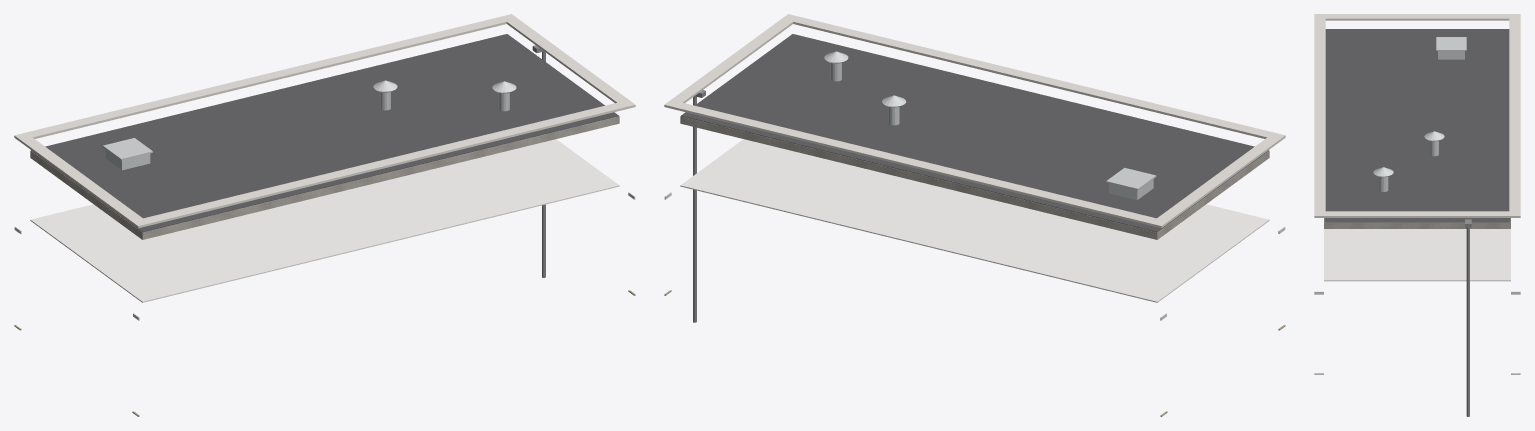
File: bs_roof.glb
3 renders of one model, left to right at view 1: azimuth 30°, elevation 25°; view 2: azimuth 150°, elevation 25°; view 3: azimuth 270°, elevation 25°, orthographic. The views are drawn at different scales.
Parts seen in each view (by area): view 1: bs_roof_dark, bs_roof_ceil, bs_roof_coping, bs_roof_concrete, bs_roof_metal; view 2: bs_roof_dark, bs_roof_ceil, bs_roof_coping, bs_roof_concrete, bs_roof_metal, bs_roof_gutter; view 3: bs_roof_dark, bs_roof_ceil, bs_roof_coping, bs_roof_metal, bs_roof_concrete, bs_roof_gutter.
Part boxes in pixels (x1=…): bs_roof_dark: x1=31, y1=34, x2=618, y2=232; bs_roof_ceil: x1=30, y1=139, x2=619, y2=302; bs_roof_coping: x1=14, y1=14, x2=635, y2=320; bs_roof_concrete: x1=30, y1=116, x2=619, y2=239; bs_roof_metal: x1=103, y1=80, x2=516, y2=170; bs_roof_dark: x1=681, y1=34, x2=1268, y2=232; bs_roof_ceil: x1=680, y1=139, x2=1269, y2=302; bs_roof_coping: x1=664, y1=14, x2=1285, y2=320; bs_roof_concrete: x1=680, y1=116, x2=1269, y2=239; bs_roof_metal: x1=824, y1=51, x2=1156, y2=199; bs_roof_gutter: x1=693, y1=90, x2=705, y2=322; bs_roof_dark: x1=1324, y1=29, x2=1510, y2=222; bs_roof_ceil: x1=1324, y1=229, x2=1510, y2=281; bs_roof_coping: x1=1314, y1=14, x2=1520, y2=294; bs_roof_metal: x1=1373, y1=37, x2=1466, y2=191; bs_roof_concrete: x1=1324, y1=218, x2=1510, y2=228; bs_roof_gutter: x1=1465, y1=219, x2=1471, y2=416.
Size of the model in its own units: 14.16 by 6.9 by 6.08.
9 materials, 2 textured.
